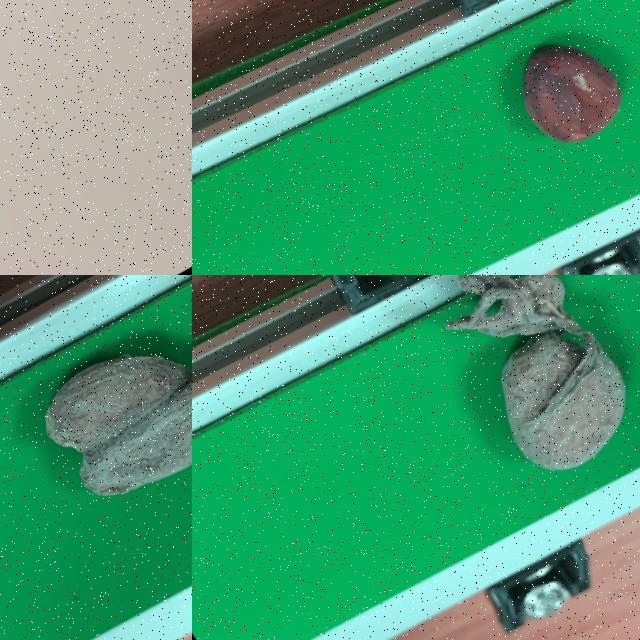Agglomerated_cocoabeans: (309, 275, 639, 574), (0, 275, 191, 604), (0, 0, 191, 133)
Fine_cocoabeans: (325, 0, 639, 251)
